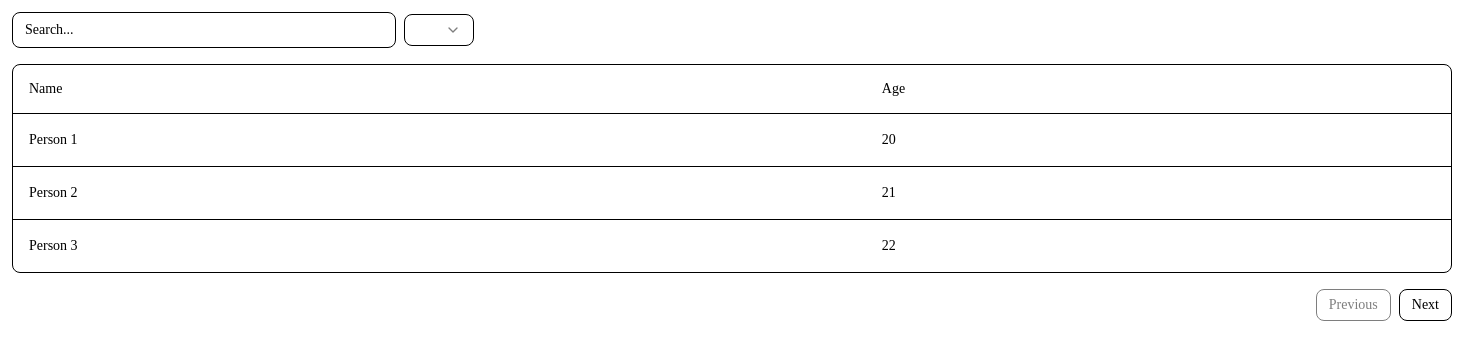
Test: DataTable Component › should navigate between pages
The width and height of the screenshot is (1464, 338).
Click the button "Next" at (1425, 304), box [1399,288,1452,320]
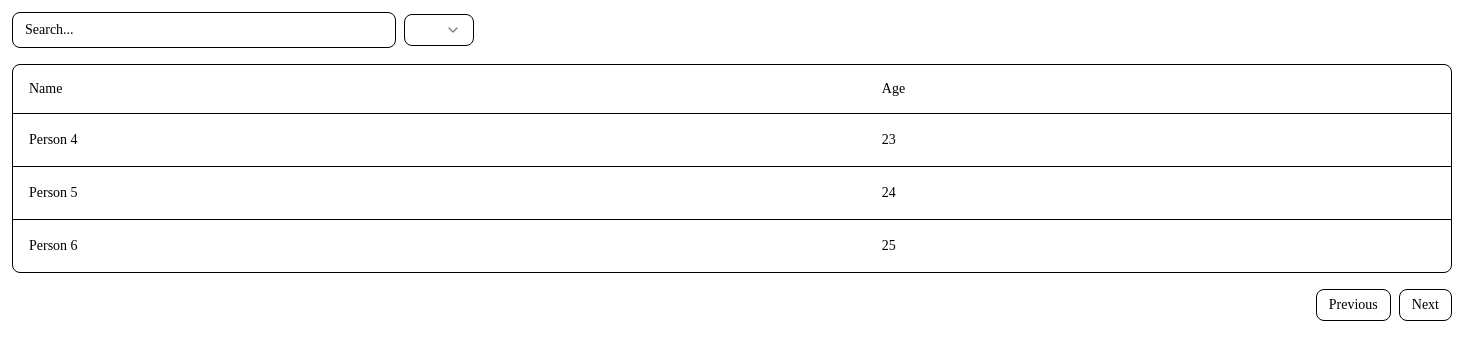
Result: the text "Person 4" is shown at [13,113,866,166]
Result: the text "Person 5" is shown at [13,166,866,219]
Result: the text "Person 6" is shown at [13,219,866,272]
